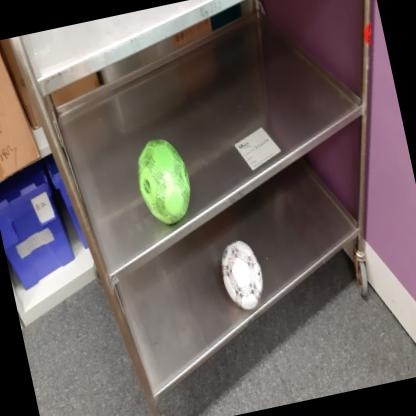ball: (130, 132, 198, 230), (214, 236, 268, 314)
